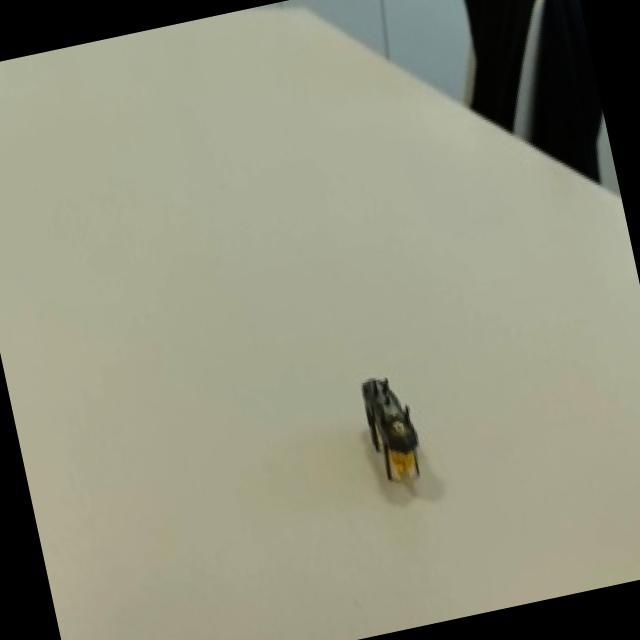6_NanoBug_GrisOscuro: (314, 336, 452, 525)
